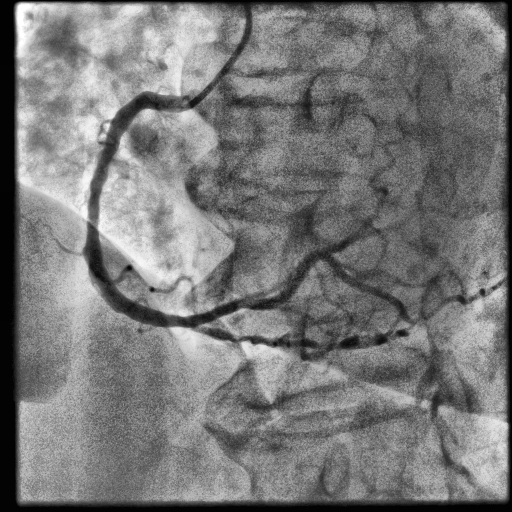pborca: (197, 220, 372, 325)
pda: (194, 323, 412, 350)
rca: (85, 91, 203, 330)
